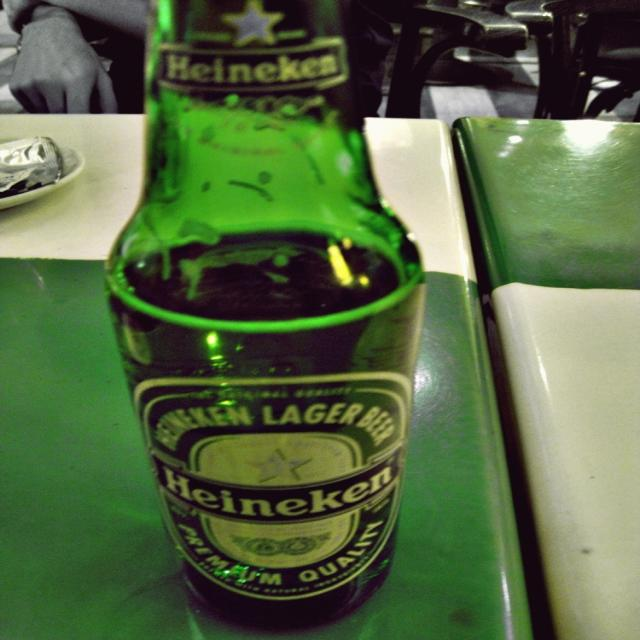heineken: (136, 371, 416, 600)
